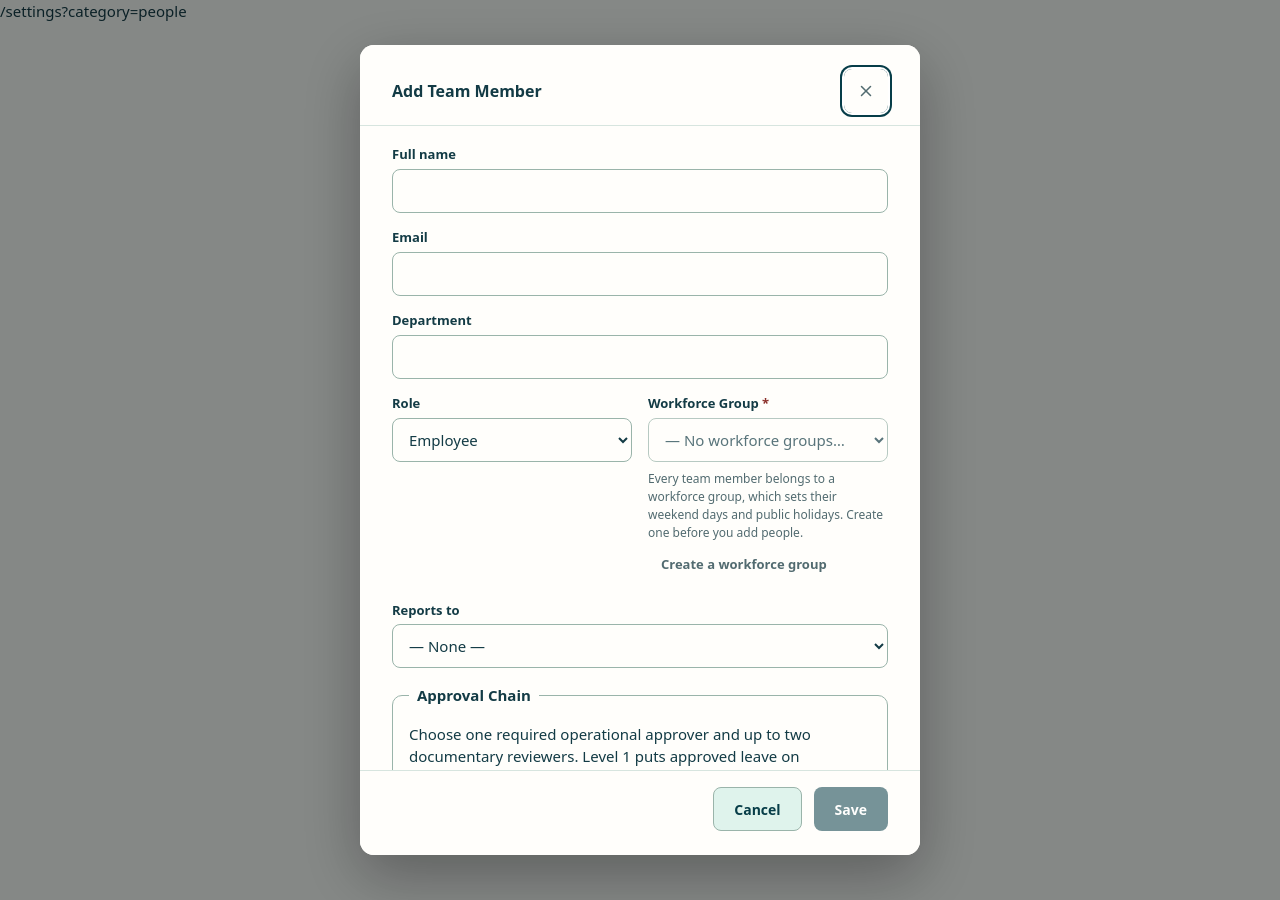
Test: TeamMemberModal — organization has no workforce groups › [P1] routes to Working Calendars so the admin can create the first group
The width and height of the screenshot is (1280, 900).
Click the button with test id "tm-create-group-link" at {"x": 744, "y": 564}, box [648,542,840,586]
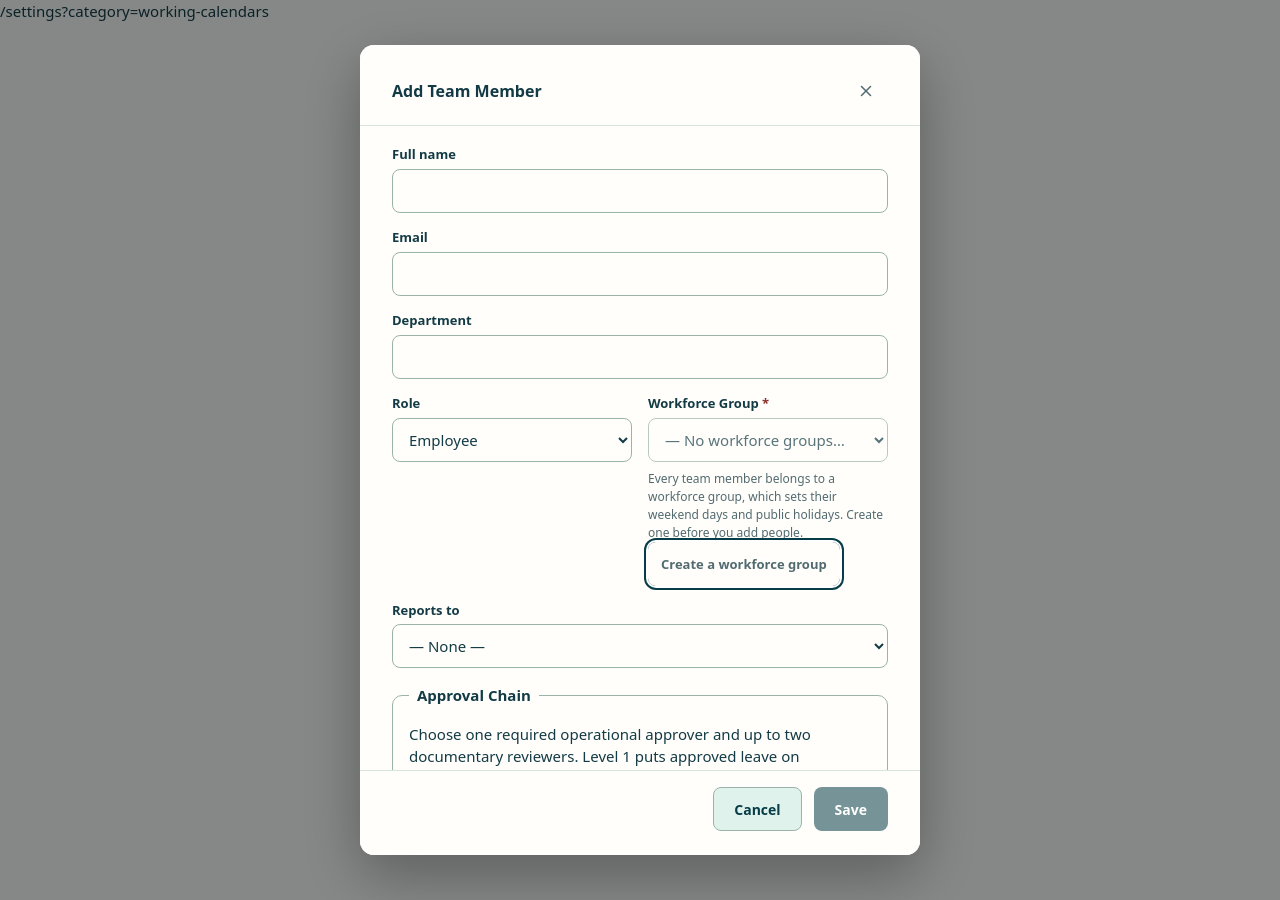
Now the text with test id "location" reads "/settings?category=working-calendars", box [0,1,269,21]
